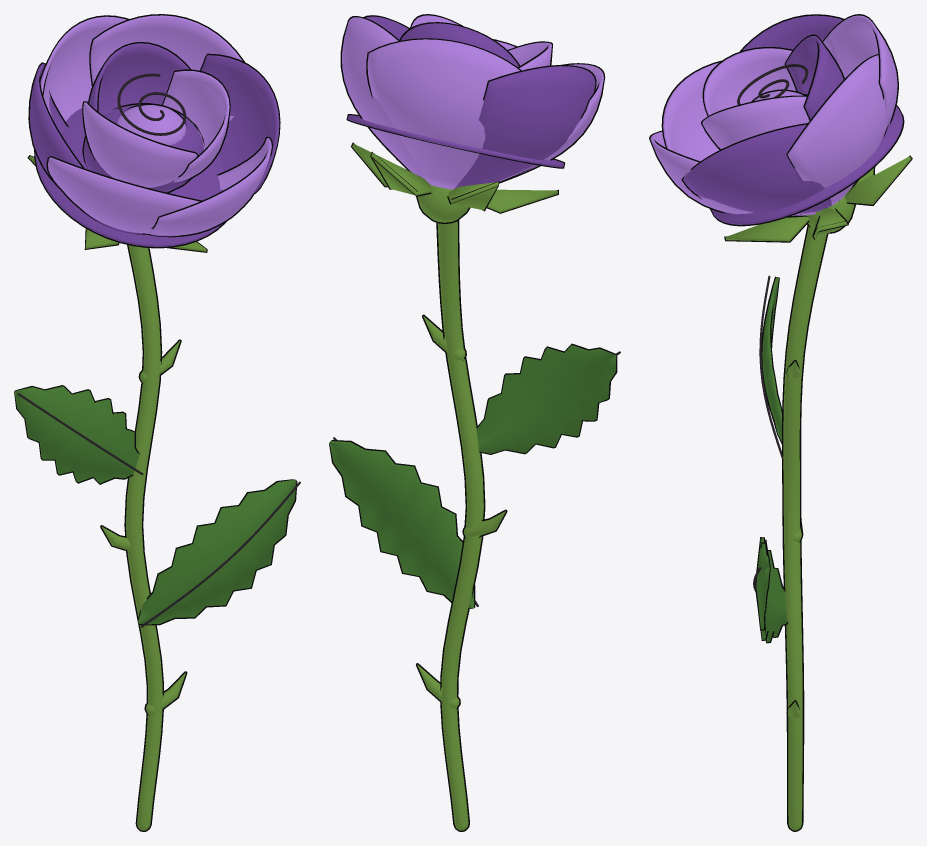
File: rose_violet.glb
The picture shows the model from 3 angles, left to right: view 1: azimuth 30°, elevation 25°; view 2: azimuth 150°, elevation 25°; view 3: azimuth 270°, elevation 25°; orthographic projection. The views are drawn at different scales.
Parts seen in each view (by area): view 1: Serrated_leaf_2, Curved_stem, Serrated_leaf_1, Outer_petal_3, Outer_petal_1, Inner_petal_2, Outer_petal_6, Closed_corolla_base, Inner_petal_3, Outer_petal_2, Inner_petal_1, Outer_petal_5 (+6 smaller); view 2: Outer_petal_5, Curved_stem, Serrated_leaf_2, Serrated_leaf_1, Outer_petal_4, Outer_petal_6, Inner_petal_3, Closed_corolla_base, Outer_petal_3, Calyx_sepal_4, Calyx_base, Calyx_sepal_2 (+4 smaller); view 3: Curved_stem, Outer_petal_6, Outer_petal_1, Inner_petal_2, Outer_petal_5, Inner_petal_1, Outer_petal_3, Inner_petal_3, Closed_corolla_base, Serrated_leaf_2, Outer_petal_4, Outer_petal_2 (+7 smaller).
Boxes of the visible parts, <box> form: Serrated_leaf_2: <box>137,479,297,625</box>; Curved_stem: <box>124,245,163,831</box>; Serrated_leaf_1: <box>14,385,139,484</box>; Outer_petal_3: <box>46,156,201,234</box>; Outer_petal_1: <box>200,53,280,195</box>; Inner_petal_2: <box>82,101,198,187</box>; Outer_petal_6: <box>89,14,245,121</box>; Closed_corolla_base: <box>34,108,226,248</box>; Inner_petal_3: <box>88,42,191,115</box>; Outer_petal_2: <box>142,136,272,237</box>; Inner_petal_1: <box>162,69,230,182</box>; Outer_petal_5: <box>40,15,128,121</box>; Outer_petal_5: <box>366,38,521,189</box>; Curved_stem: <box>436,220,485,831</box>; Serrated_leaf_2: <box>329,440,475,608</box>; Serrated_leaf_1: <box>476,343,617,454</box>; Outer_petal_4: <box>454,65,596,188</box>; Outer_petal_6: <box>340,16,428,182</box>; Inner_petal_3: <box>399,22,519,66</box>; Closed_corolla_base: <box>346,114,565,168</box>; Outer_petal_3: <box>499,63,605,183</box>; Calyx_sepal_4: <box>370,152,432,196</box>; Calyx_base: <box>416,185,470,223</box>; Calyx_sepal_2: <box>487,189,558,213</box>; Curved_stem: <box>782,224,828,831</box>; Outer_petal_6: <box>786,54,889,205</box>; Outer_petal_1: <box>681,123,839,215</box>; Inner_petal_2: <box>702,47,795,116</box>; Outer_petal_5: <box>822,14,898,186</box>; Inner_petal_1: <box>701,95,809,149</box>; Outer_petal_3: <box>661,60,721,161</box>; Inner_petal_3: <box>784,34,844,120</box>; Closed_corolla_base: <box>710,105,904,226</box>; Serrated_leaf_2: <box>755,537,788,643</box>; Outer_petal_4: <box>739,14,843,51</box>; Outer_petal_2: <box>649,130,815,217</box>.
Bounding box in the file's own units: 0.1925 × 0.5201 × 0.156.
